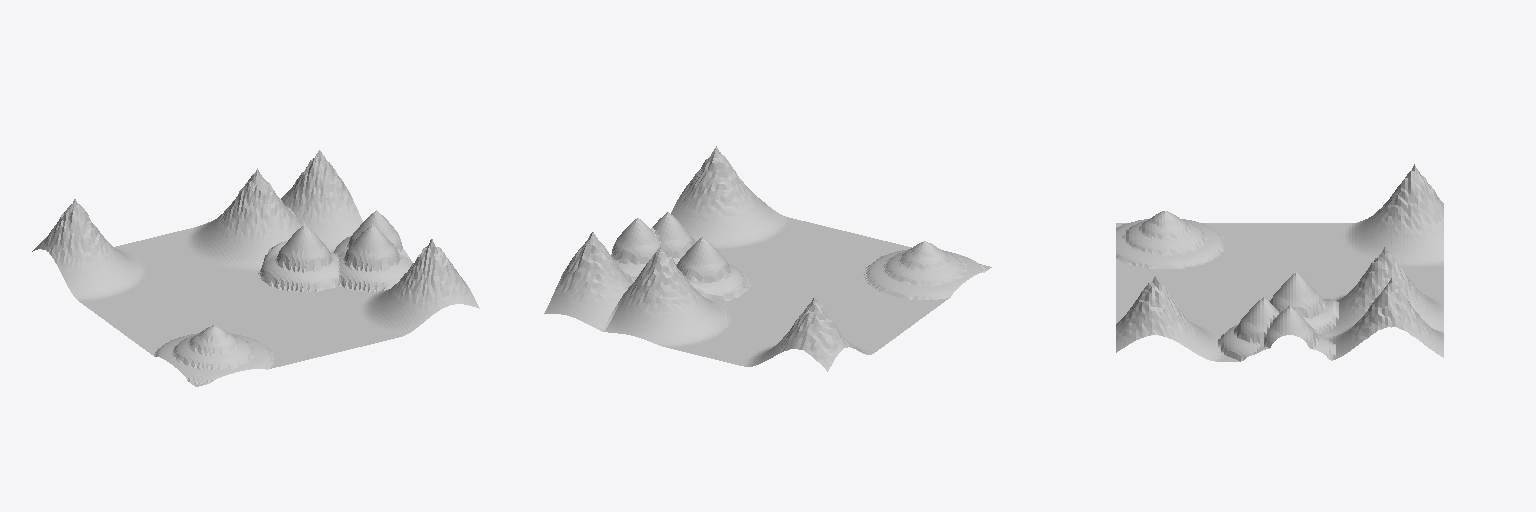
The model's file is lesson_16_prop_editing.obj.
3 views of the same model, side by side, from view 1: azimuth 30°, elevation 25°; view 2: azimuth 150°, elevation 25°; view 3: azimuth 270°, elevation 25° (orthographic).
Visible parts, largest first — view 1: Grid; view 2: Grid; view 3: Grid.
Part boxes in pixels (left/top/right/bottom): Grid: left=32, top=150, right=479, bottom=386; Grid: left=544, top=146, right=991, bottom=371; Grid: left=1116, top=164, right=1443, bottom=361.
Bounding box in the file's own units: 50 × 12.24 × 50.